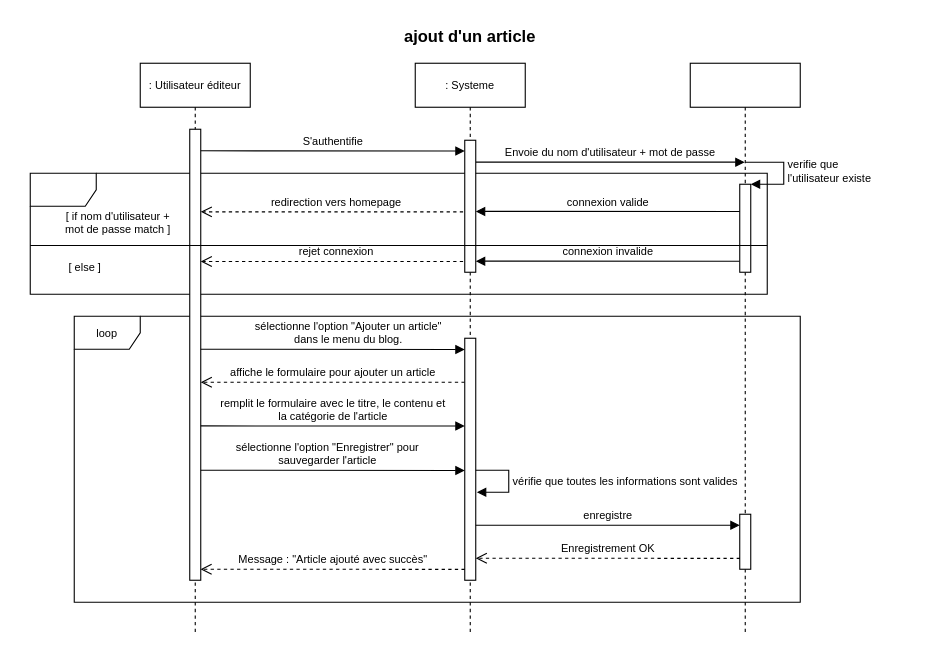
Image size: 939x655. Some labels were removed from this diagram. Each missing label, with the box of its shape:
: DB: (689, 62, 800, 635)
alt: (29, 172, 767, 294)
